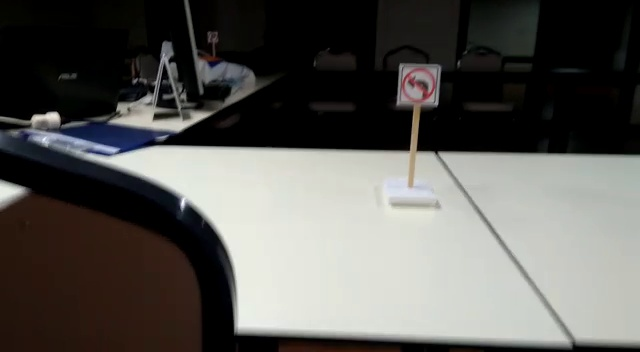sola_donulmez: (400, 68, 437, 100)
